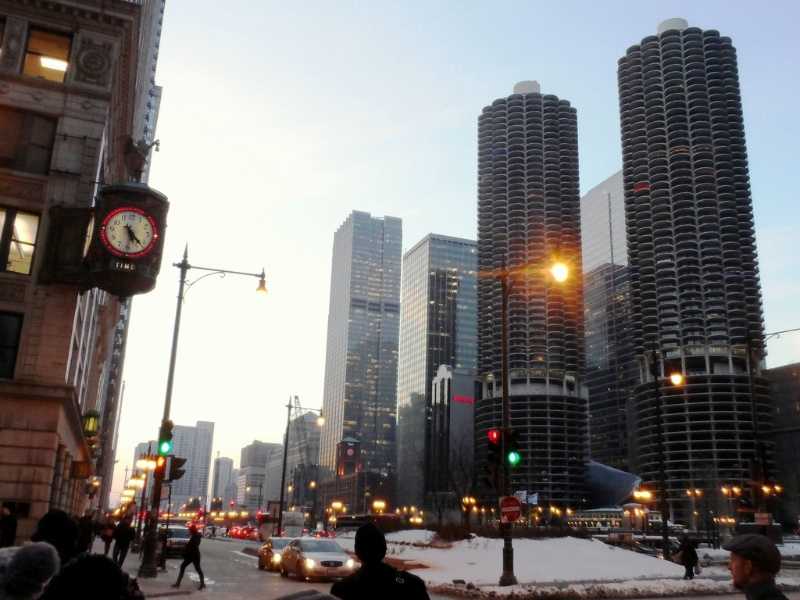green_light: (505, 444, 528, 476), (157, 436, 177, 454)
